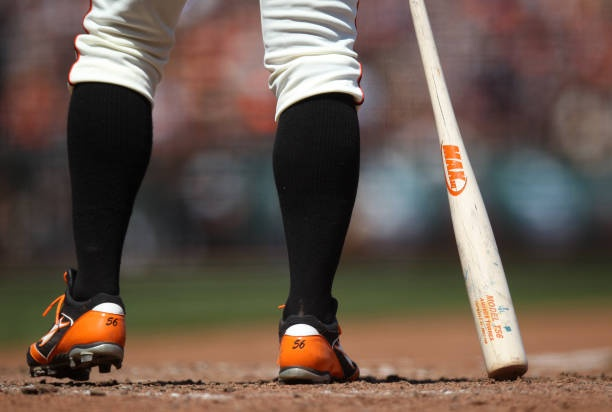bita: (403, 1, 524, 377)
